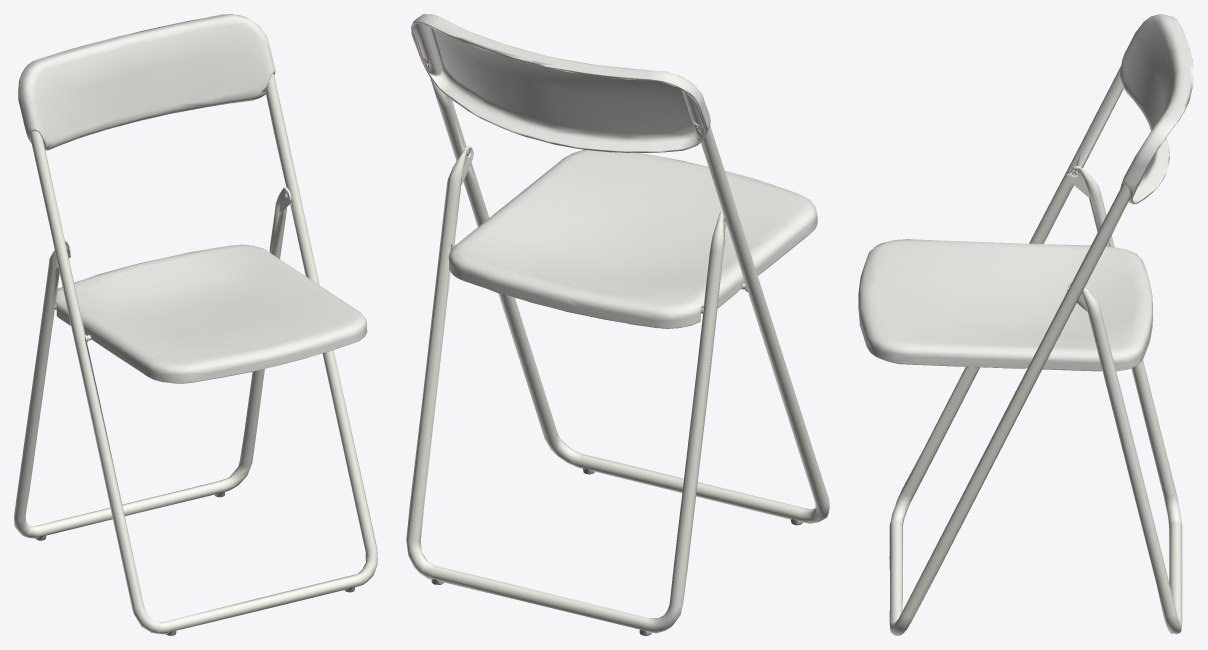
The model's file is chair-vihals-v1.glb.
3 views of the same model, side by side, from view 1: azimuth 30°, elevation 25°; view 2: azimuth 150°, elevation 25°; view 3: azimuth 270°, elevation 25° (orthographic). The views are drawn at different scales.
Parts seen in each view (by area): view 1: seat-top, backrest, main-frame, rear-frame; view 2: seat-top, backrest, rear-frame, main-frame; view 3: seat-top, main-frame, rear-frame, backrest.
Boxes of the visible parts, x1,y1,x2,y2 form: seat-top: [55, 244, 367, 383]; backrest: [18, 14, 275, 150]; main-frame: [30, 73, 377, 635]; rear-frame: [14, 187, 291, 540]; seat-top: [448, 149, 817, 328]; backrest: [411, 14, 710, 152]; rear-frame: [406, 146, 726, 635]; main-frame: [430, 77, 829, 525]; seat-top: [858, 239, 1152, 371]; main-frame: [889, 66, 1130, 635]; rear-frame: [1067, 166, 1182, 634]; backrest: [1120, 14, 1193, 204].
Size of the model in its own units: 0.43 by 0.8 by 0.47.
1 material, 1 textured.
